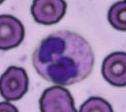N: (32, 31, 94, 85)
